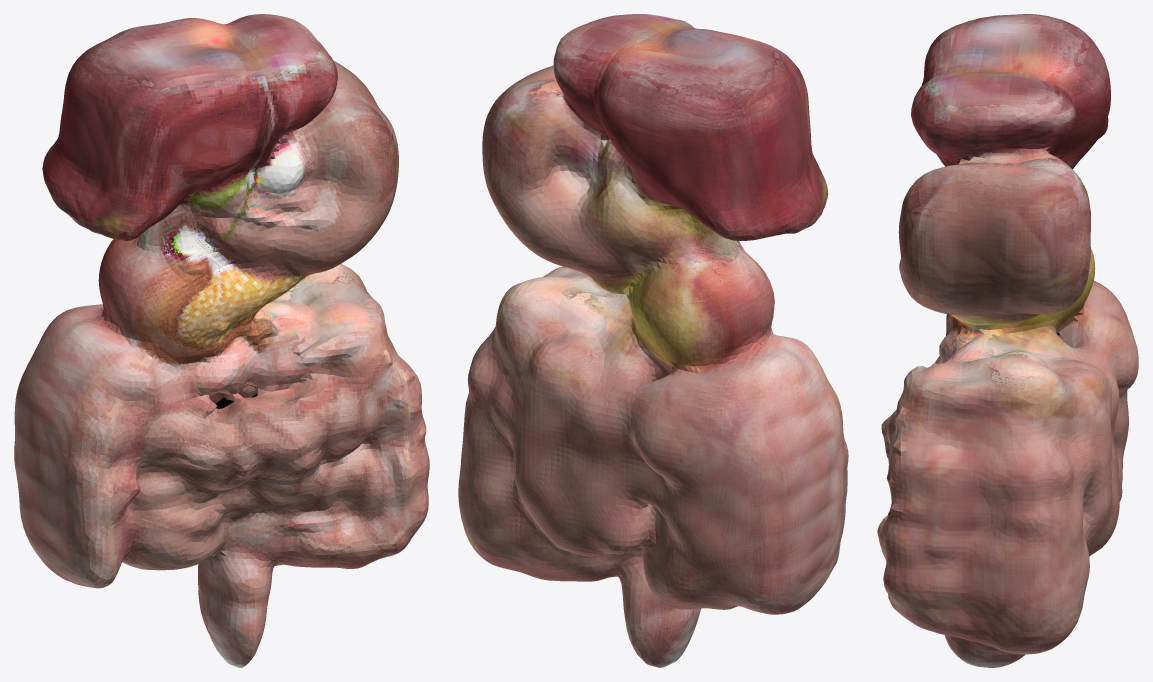
File: digestive.glb
3 views of the same model, side by side, from view 1: azimuth 30°, elevation 25°; view 2: azimuth 150°, elevation 25°; view 3: azimuth 270°, elevation 25° (orthographic). The views are drawn at different scales.
Size of the model in its own units: 0.8257 by 1.39 by 0.5411.
Materials: 1 (1 with a texture image).
